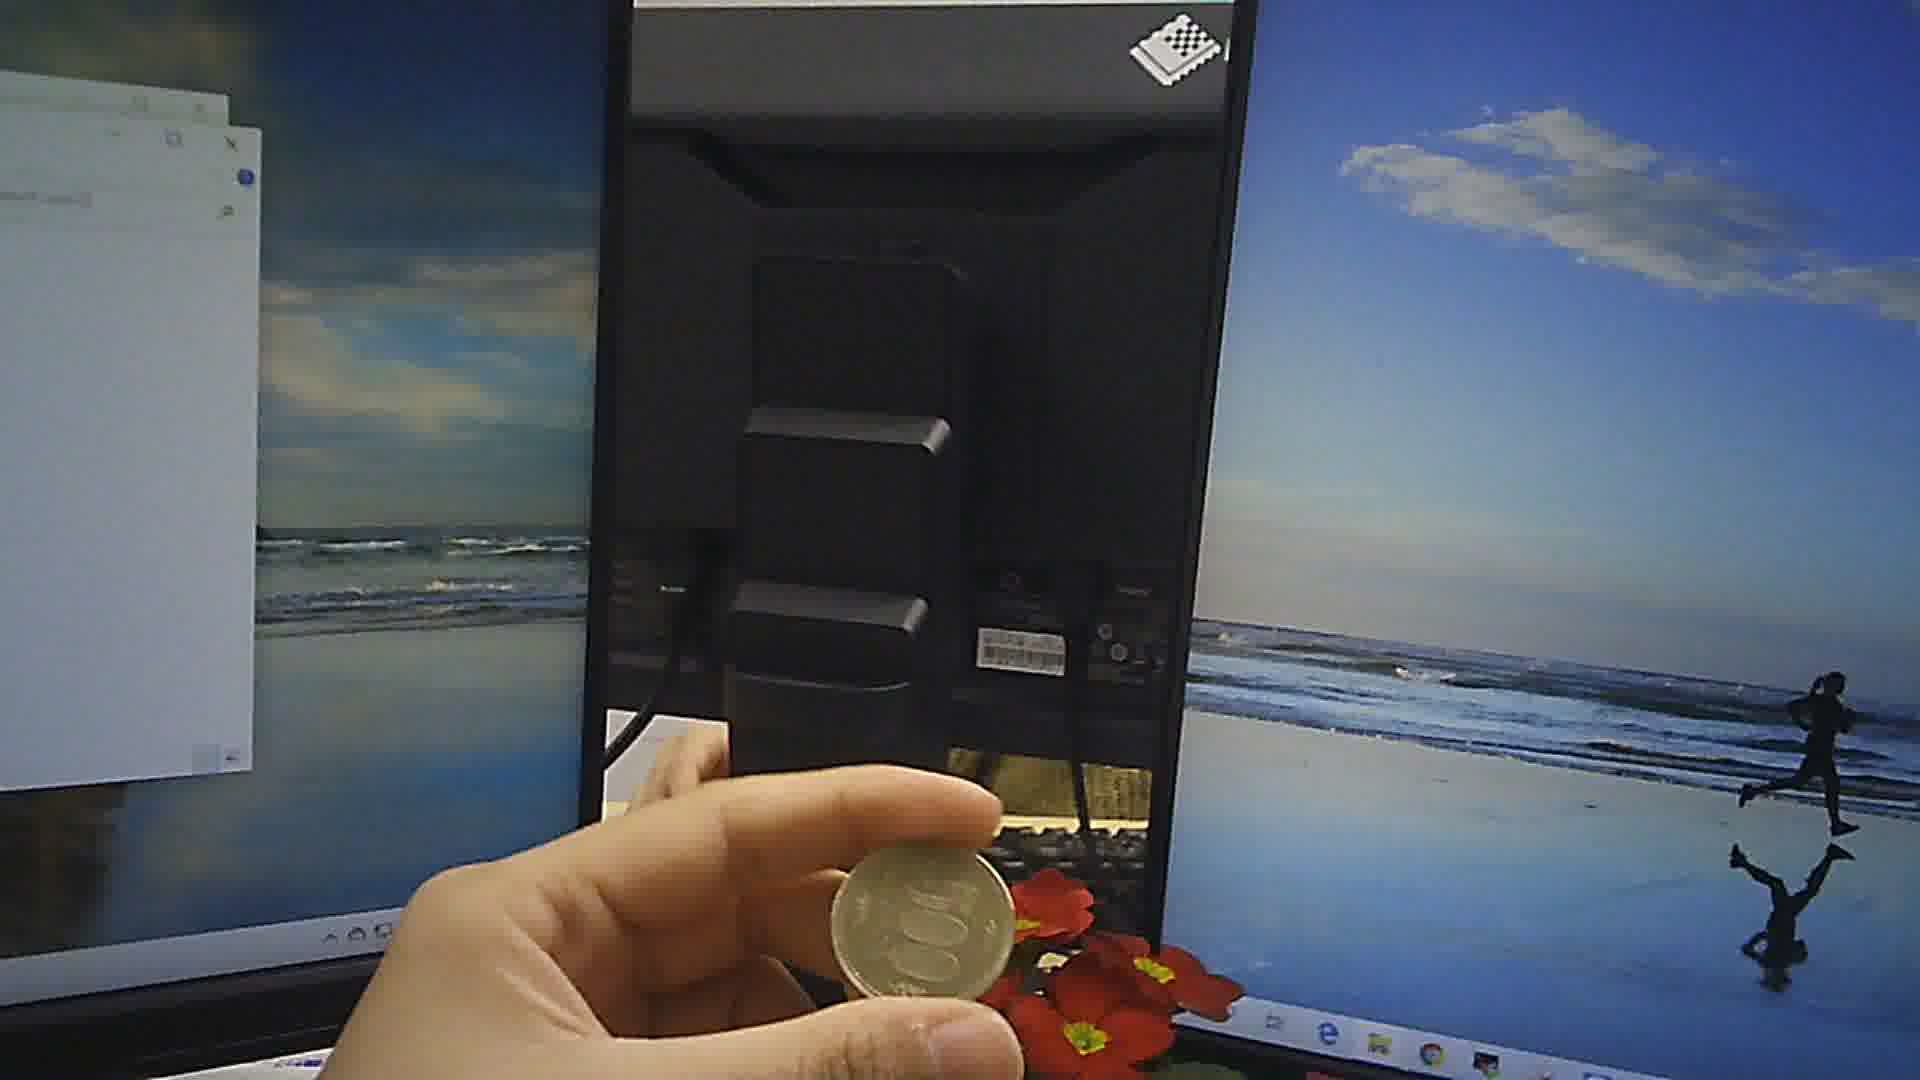500 Yen: (829, 833, 1015, 1011)
